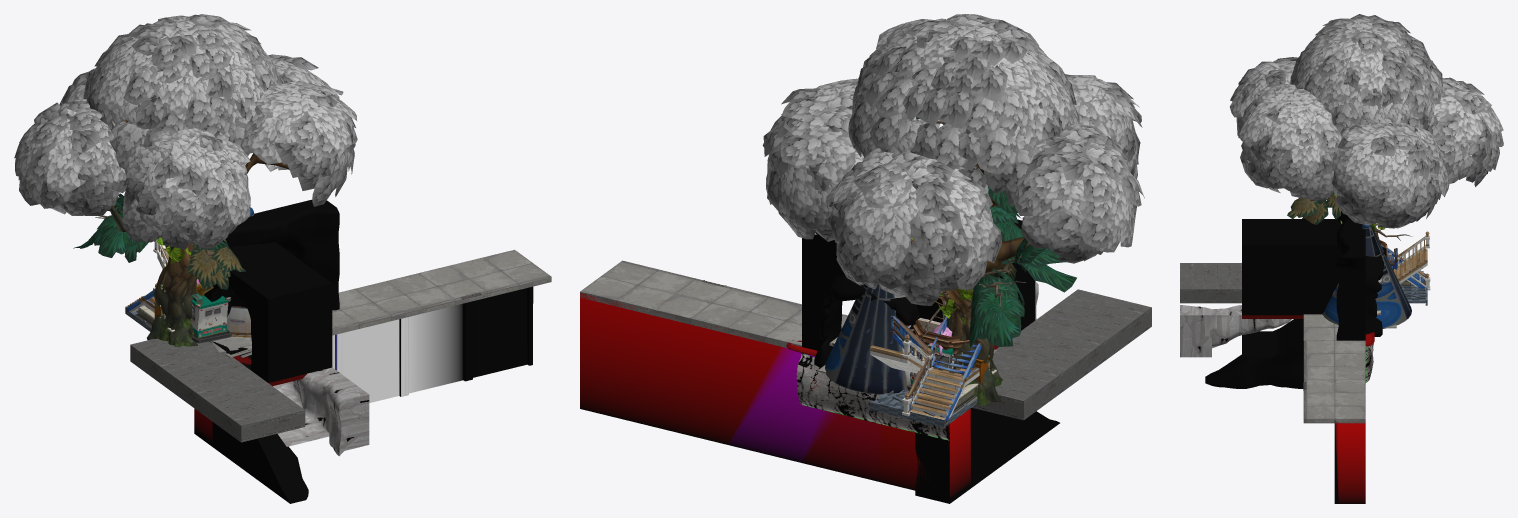
The model's file is city-1.glb.
3 views of the same model, side by side, from view 1: azimuth 30°, elevation 25°; view 2: azimuth 150°, elevation 25°; view 3: azimuth 270°, elevation 25° (orthographic). The views are drawn at different scales.
Parts seen in each view (by area): view 1: /Game/Athena/Prototype/Terrain/Athena_Tree_Large_01_CustomLO, /Game/Packages/DS_Fortnite_Terrain_NoLOD/RetainingWalls/S_Wa, /Game/Packages/DS_Fortnite_Terrain_NoLOD/Elevation/S_Cave_Tu, /Game/Packages/DS_Fortnite_Terrain_NoLOD/RetainingWalls/S_Un, /Game/Environments/World/Sidewalks/Meshes/S_Sidewalk_1x5, /Game/Packages/DS_Fortnite_Terrain_NoLOD/Elevation/S_Cave_En, /Game/Packages/DS_Fortnite_Terrain_NoLOD/Elevation/S_GeoSlop, /Game/Packages/DS_Fortnite_Terrain_NoLOD/Elevation/S_Cave_Ra, /Game/Athena/Environments/Meshes/Athena_Pine_02, /Game/Vehicles/FORT_Vehicles_01/Meshes/Car_Icecream_Van_01, /Game/Environments/Props/Street/Meshes/StreetProp_Streetligh; view 2: /Game/Athena/Prototype/Terrain/Athena_Tree_Large_01_CustomLO, /Game/Packages/DS_Fortnite_Terrain_NoLOD/RetainingWalls/S_Wa, /Game/Packages/DS_Fortnite_Terrain_NoLOD/RetainingWalls/S_Un, /Game/Environments/World/Sidewalks/Meshes/S_Sidewalk_1x5, /Game/Athena/Environments/Meshes/Athena_Pine_02, /Game/Packages/DS_Fortnite_Terrain_NoLOD/Elevation/S_Cave_Ra, /Game/Packages/DS_Fortnite_Terrain_NoLOD/Elevation/S_Cave_En, /Game/Environments/Props/Street/Meshes/StreetProp_Streetligh, /Game/Packages/DS_Fortnite_Terrain_NoLOD/Elevation/S_Undergr, /Game/Environments/Sets/Victorian/Meshes/WoodHouse_StairsDou, /Game/Environments/Sets/NeoClassical/Meshes/SM_Fort_Neo_Clas, /Game/Environments/Sets/FireEscapes/Meshes/FireEscapeStairF (+5 smaller); view 3: /Game/Athena/Prototype/Terrain/Athena_Tree_Large_01_CustomLO, /Game/Packages/DS_Fortnite_Terrain_NoLOD/Elevation/S_Cave_Tu, /Game/Environments/World/Sidewalks/Meshes/S_Sidewalk_1x5, /Game/Packages/DS_Fortnite_Terrain_NoLOD/Elevation/S_Cave_En, /Game/Packages/DS_Fortnite_Terrain_NoLOD/Elevation/S_Cave_Ra (×2), /Game/Packages/DS_Fortnite_Terrain_NoLOD/Elevation/S_GeoSlop, /Game/Packages/DS_Fortnite_Terrain_NoLOD/RetainingWalls/S_Wa, /Game/Packages/DS_Fortnite_Terrain_NoLOD/RetainingWalls/S_Un, /Game/Environments/Props/Street/Meshes/StreetProp_Streetligh, /Game/Athena/Environments/Meshes/Athena_Pine_02, /Game/Environments/World/Sidewalks/Meshes/S_Sidewalk_1x2_NoC, /Game/Environments/Sets/Victorian/Meshes/WoodHouse_StairsDou (+1 smaller).
Part boxes in pixels (x1,y1,x2,y2): /Game/Athena/Prototype/Terrain/Athena_Tree_Large_01_CustomLO: (14,14,357,347); /Game/Packages/DS_Fortnite_Terrain_NoLOD/RetainingWalls/S_Wa: (194,286,533,442); /Game/Packages/DS_Fortnite_Terrain_NoLOD/Elevation/S_Cave_Tu: (204,241,332,382); /Game/Packages/DS_Fortnite_Terrain_NoLOD/RetainingWalls/S_Un: (130,338,305,442); /Game/Environments/World/Sidewalks/Meshes/S_Sidewalk_1x5: (216,249,551,348); /Game/Packages/DS_Fortnite_Terrain_NoLOD/Elevation/S_Cave_En: (215,199,339,310); /Game/Packages/DS_Fortnite_Terrain_NoLOD/Elevation/S_GeoSlop: (273,367,369,456); /Game/Packages/DS_Fortnite_Terrain_NoLOD/Elevation/S_Cave_Ra: (194,422,308,503); /Game/Athena/Environments/Meshes/Athena_Pine_02: (73,193,245,290); /Game/Vehicles/FORT_Vehicles_01/Meshes/Car_Icecream_Van_01: (191,279,231,343); /Game/Environments/Props/Street/Meshes/StreetProp_Streetligh: (226,207,254,337); /Game/Athena/Prototype/Terrain/Athena_Tree_Large_01_CustomLO: (762,14,1144,405); /Game/Packages/DS_Fortnite_Terrain_NoLOD/RetainingWalls/S_Wa: (580,293,970,498); /Game/Packages/DS_Fortnite_Terrain_NoLOD/RetainingWalls/S_Un: (972,289,1151,420); /Game/Environments/World/Sidewalks/Meshes/S_Sidewalk_1x5: (580,260,843,348); /Game/Athena/Environments/Meshes/Athena_Pine_02: (916,117,1076,347); /Game/Packages/DS_Fortnite_Terrain_NoLOD/Elevation/S_Cave_Ra: (915,408,1059,503); /Game/Packages/DS_Fortnite_Terrain_NoLOD/Elevation/S_Cave_En: (802,232,942,367); /Game/Environments/Props/Street/Meshes/StreetProp_Streetligh: (825,284,946,394); /Game/Packages/DS_Fortnite_Terrain_NoLOD/Elevation/S_Undergr: (796,353,949,440); /Game/Environments/Sets/Victorian/Meshes/WoodHouse_StairsDou: (870,334,979,419); /Game/Environments/Sets/NeoClassical/Meshes/SM_Fort_Neo_Clas: (870,340,979,419); /Game/Environments/Sets/FireEscapes/Meshes/FireEscapeStairF: (909,316,981,423); /Game/Athena/Prototype/Terrain/Athena_Tree_Large_01_CustomLO: (1230,14,1503,240); /Game/Packages/DS_Fortnite_Terrain_NoLOD/Elevation/S_Cave_Tu: (1242,219,1341,315); /Game/Environments/World/Sidewalks/Meshes/S_Sidewalk_1x5: (1303,318,1365,423); /Game/Packages/DS_Fortnite_Terrain_NoLOD/Elevation/S_Cave_En: (1336,211,1386,340); /Game/Packages/DS_Fortnite_Terrain_NoLOD/Elevation/S_Cave_Ra (×2): (1205,319,1303,388); /Game/Packages/DS_Fortnite_Terrain_NoLOD/Elevation/S_GeoSlop: (1180,305,1291,357); /Game/Packages/DS_Fortnite_Terrain_NoLOD/RetainingWalls/S_Wa: (1334,420,1365,503); /Game/Packages/DS_Fortnite_Terrain_NoLOD/RetainingWalls/S_Un: (1180,263,1241,303); /Game/Environments/Props/Street/Meshes/StreetProp_Streetligh: (1322,224,1411,328); /Game/Athena/Environments/Meshes/Athena_Pine_02: (1287,192,1411,240); /Game/Environments/World/Sidewalks/Meshes/S_Sidewalk_1x2_NoC: (1303,314,1338,340); /Game/Environments/Sets/Victorian/Meshes/WoodHouse_StairsDou: (1393,231,1429,281).
Bounding box in the file's own units: 38.74 × 31.62 × 26.8.
Materials: 196 (180 with a texture image).
